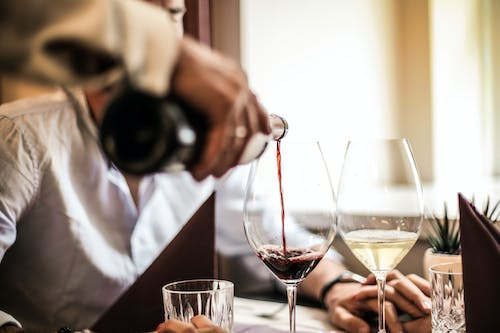alcohol: (241, 140, 341, 333), (95, 85, 290, 177), (336, 136, 426, 333)
